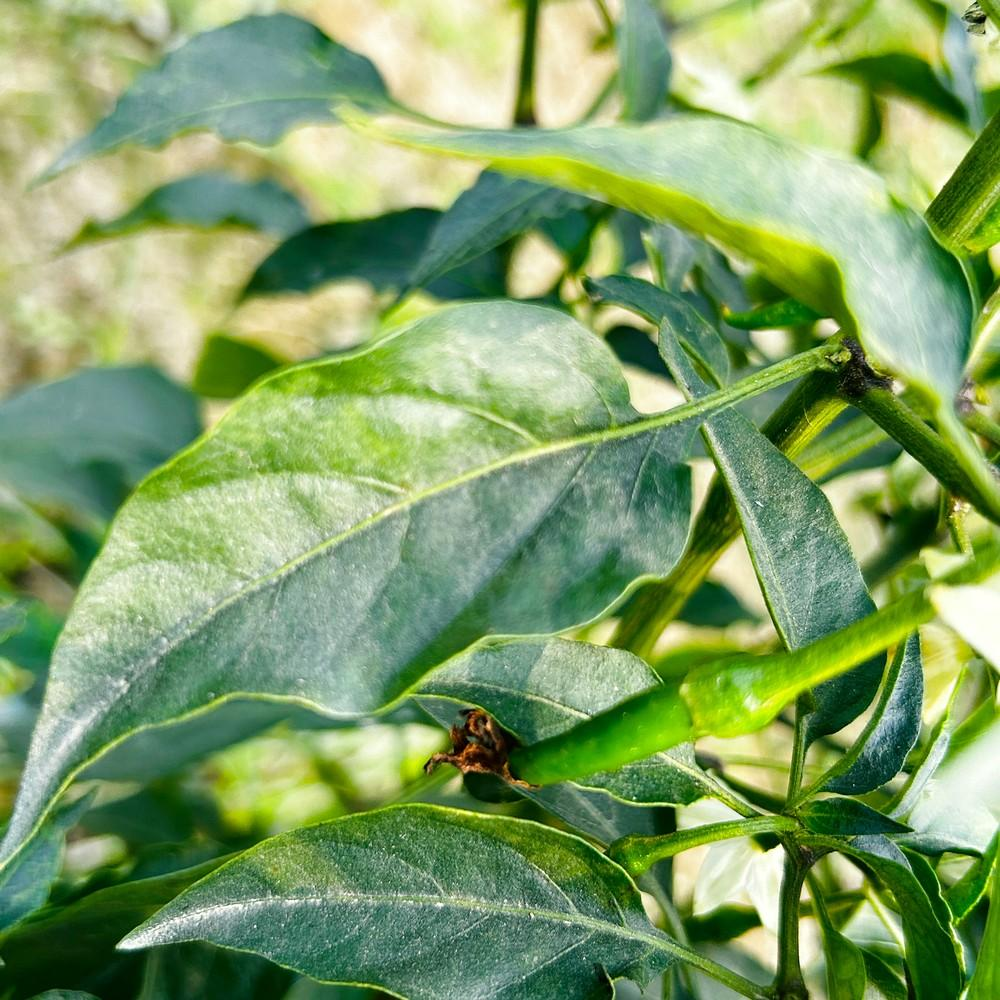Daun Cabai Sehat: (1, 294, 702, 925), (108, 791, 675, 1000)
